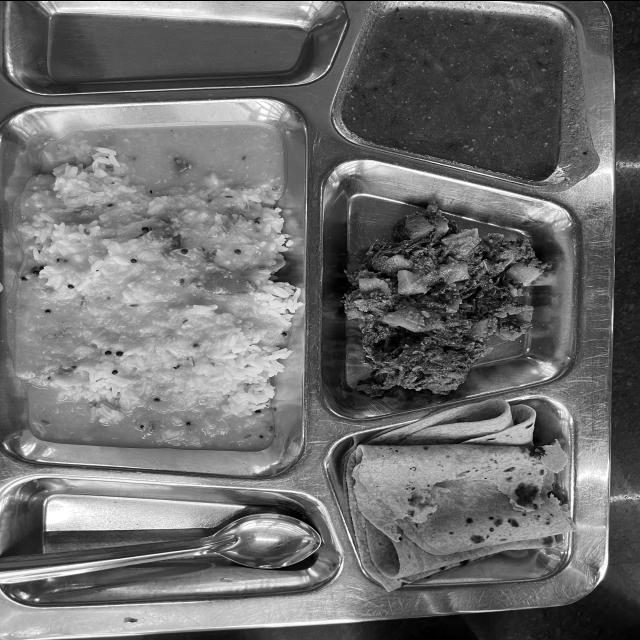Full-Plate: (0, 11, 600, 622)
